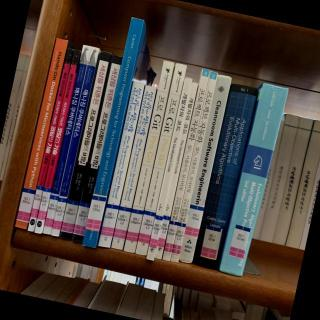book-spine: (215, 82, 289, 278), (82, 17, 144, 248), (191, 82, 257, 270), (177, 74, 232, 264), (14, 37, 68, 229), (135, 63, 187, 256), (123, 60, 174, 254), (71, 54, 123, 243), (59, 52, 111, 240), (42, 44, 92, 235), (50, 46, 99, 237), (162, 68, 210, 261), (170, 71, 217, 263), (27, 47, 74, 232), (146, 76, 193, 260), (34, 49, 80, 234), (98, 81, 145, 248), (154, 82, 198, 259), (110, 85, 157, 250)
